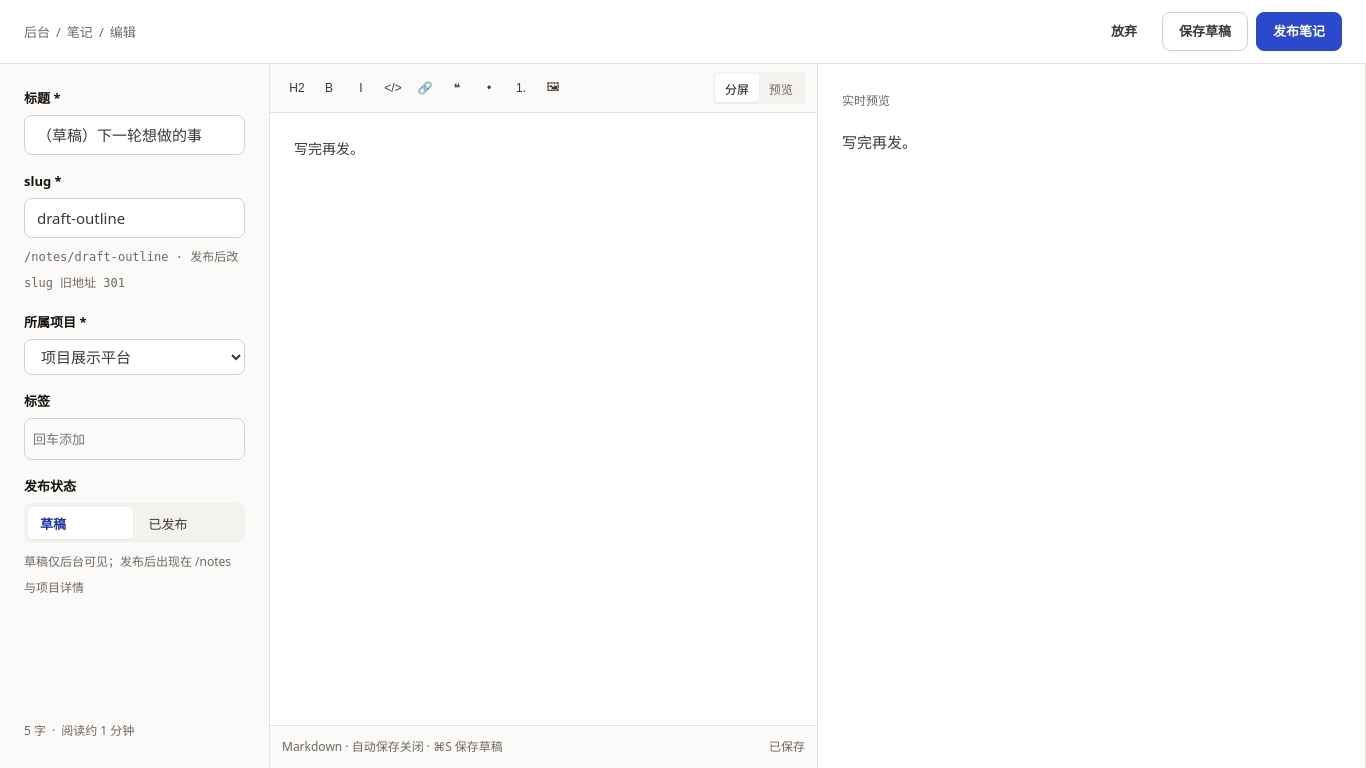
NoteEditView › 发布笔记：draft → published 走状态机，计数与按钮态跟着变
The image size is (1366, 768).
Check: the field labelled "slug * /notes/draft-outline · 发布后改 slug 旧地址 301" holds "draft-outline", box [24, 198, 245, 238]
Click the button "已发布". click: (189, 523)
box: [136, 507, 241, 539]
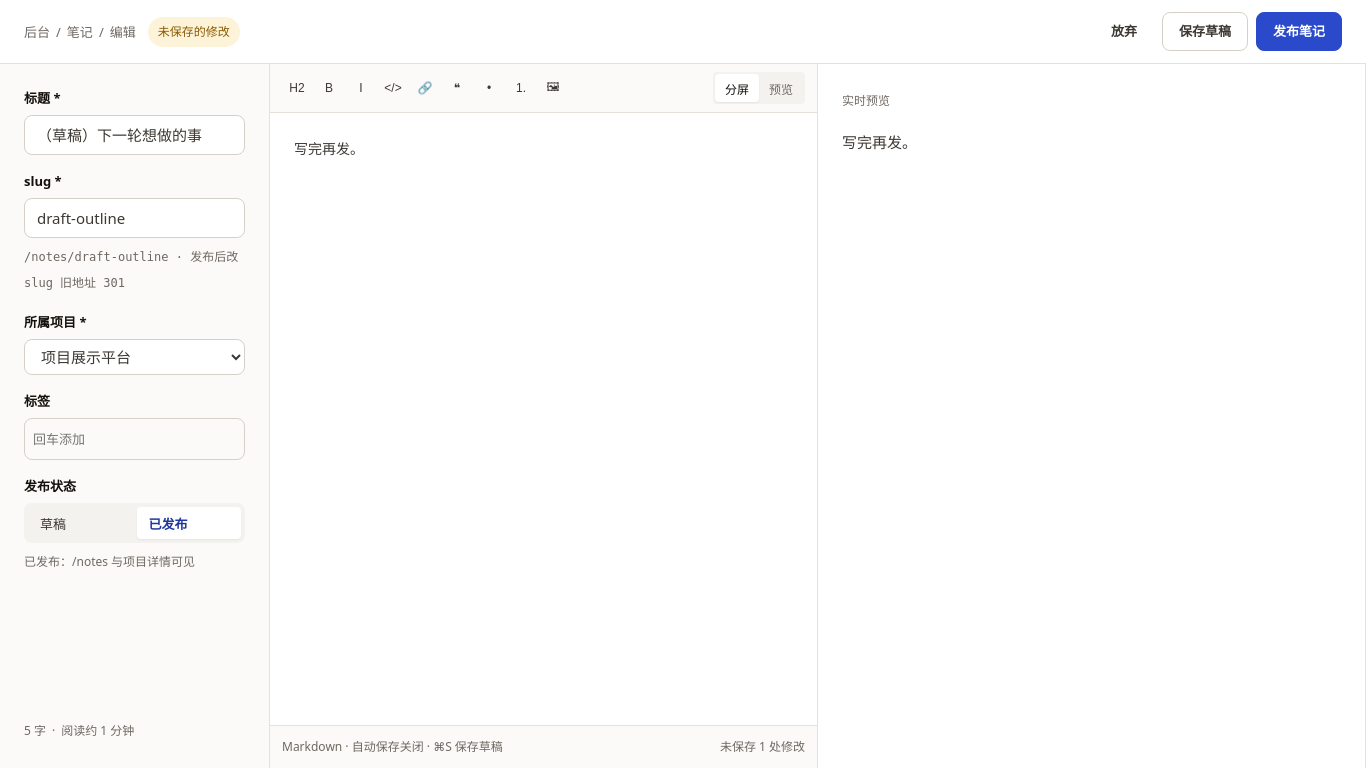
Click the button "发布笔记". click: (1299, 32)
box: [1256, 12, 1342, 51]
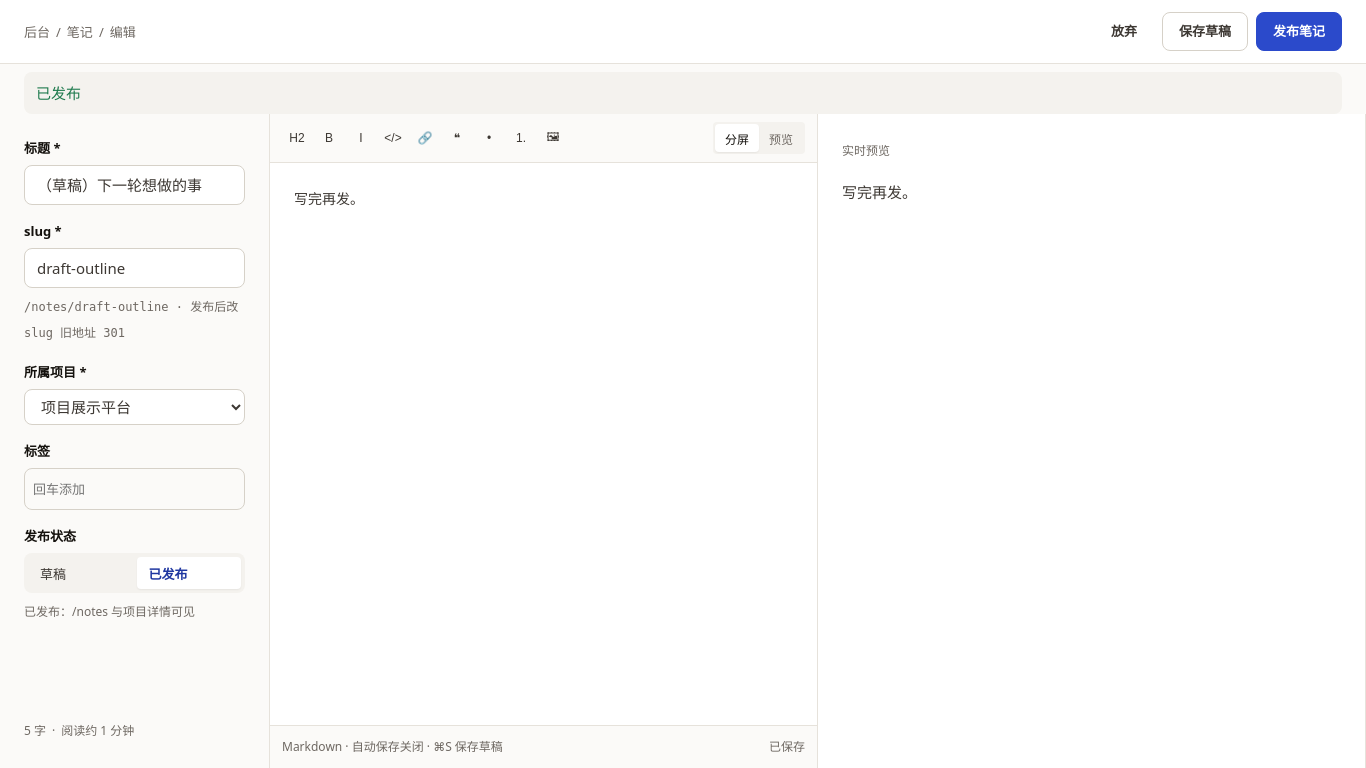
Check: the message reads "已发布", box [36, 83, 81, 103]
